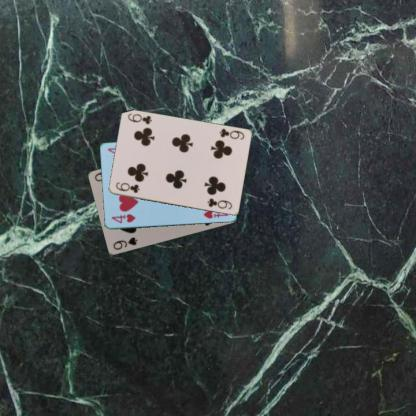4h: (109, 211, 136, 225)
6c: (217, 126, 245, 141), (113, 180, 141, 194)
9s: (110, 235, 139, 252)
